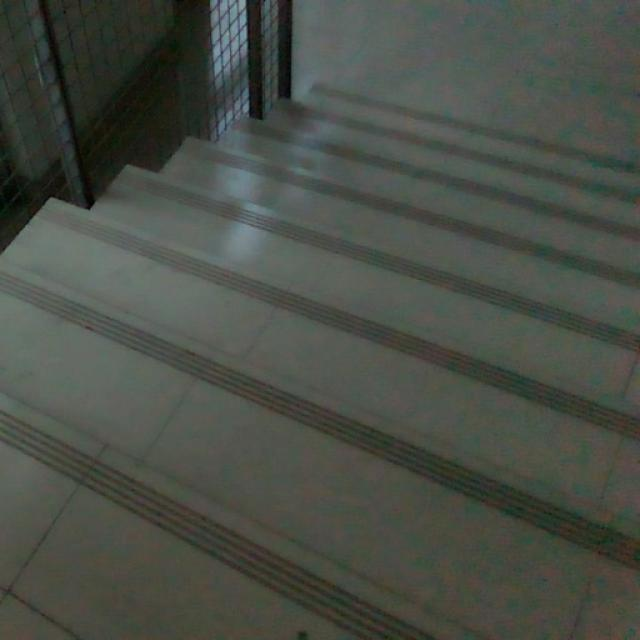stair: (2, 88, 640, 592)
